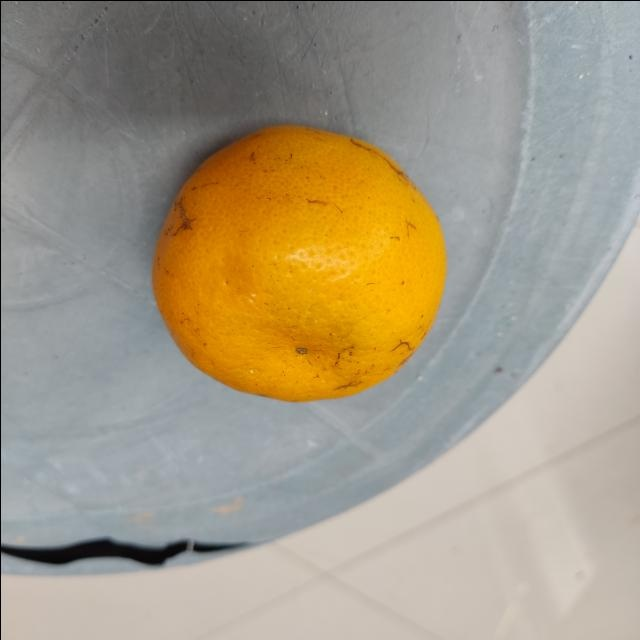agrume: (151, 124, 445, 404)
